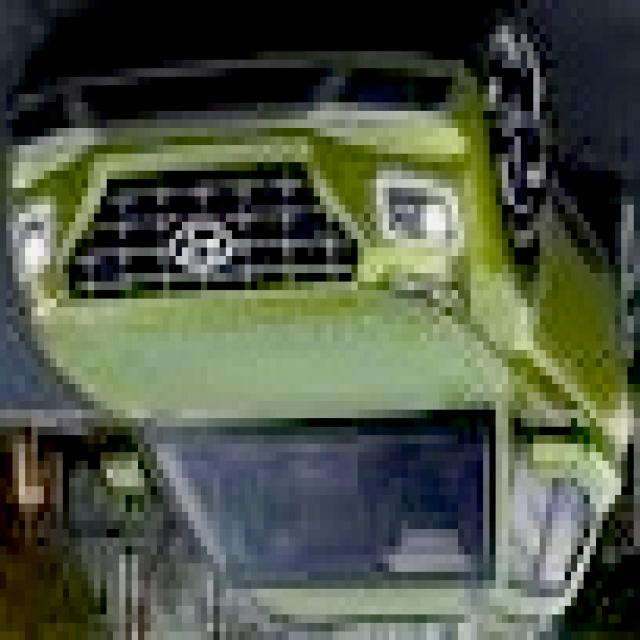green: (0, 5, 639, 640)
